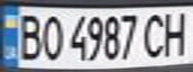4: (63, 11, 87, 62)
7: (118, 11, 142, 61)
8: (103, 11, 124, 61)
9: (84, 11, 106, 62)
B: (12, 10, 45, 61)
C: (139, 10, 172, 60)
H: (160, 8, 193, 57)
O: (36, 11, 66, 62)
